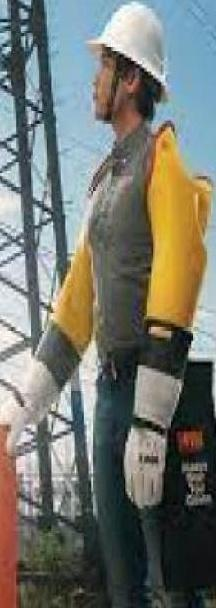gloves: (122, 330, 193, 510), (0, 321, 81, 458)
hard-hat: (84, 1, 168, 87)
vest: (0, 127, 215, 385)
